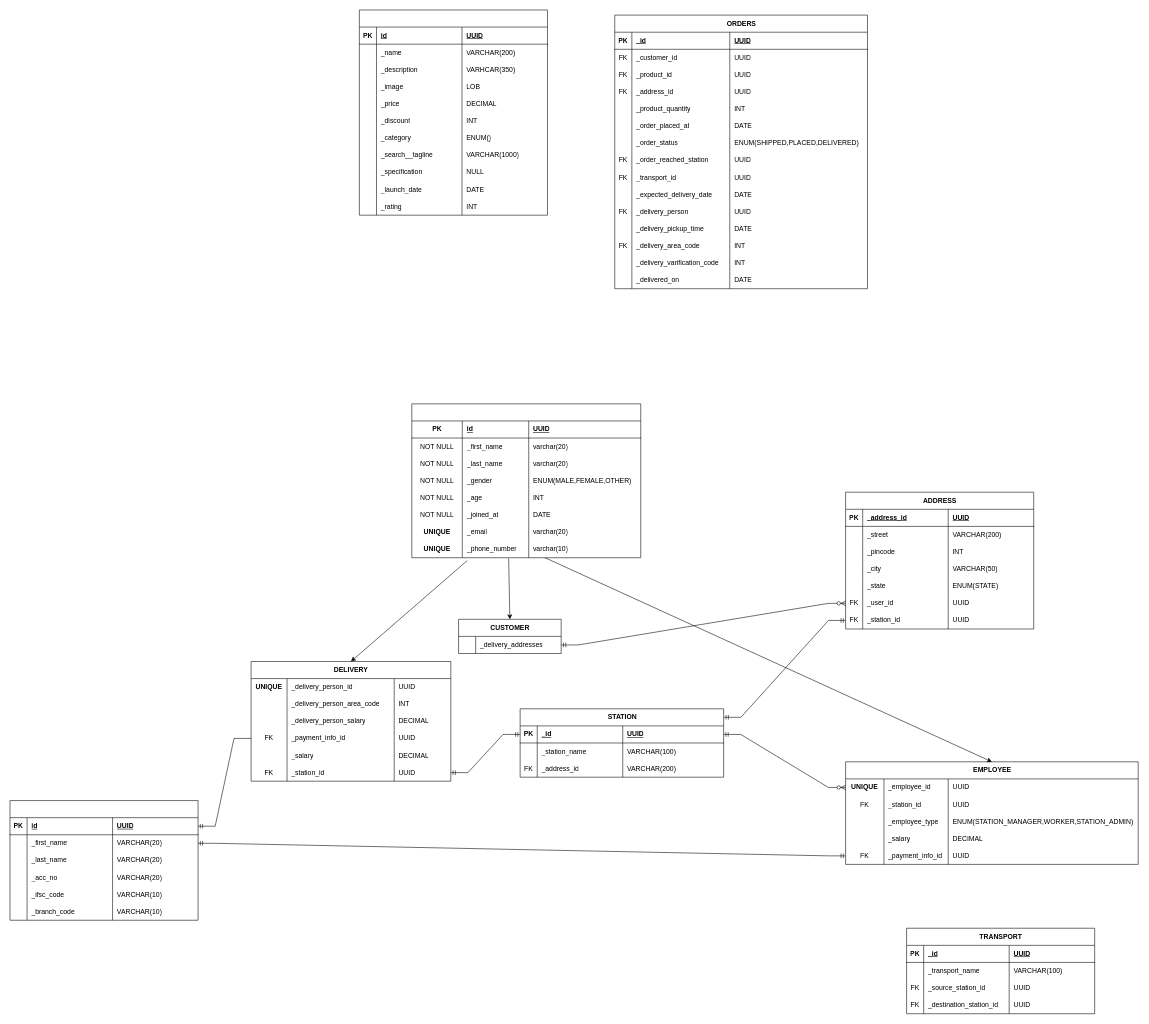
Image size: 1149x1024. Some labels were removed from this diagram. The box of each missing label's shape, as (x1, y1, x2, y2) in pixels:
Base_Table: (411, 403, 641, 558)
PRODUCTS: (359, 9, 547, 215)
SALARY_PAYMENT: (9, 800, 198, 920)
